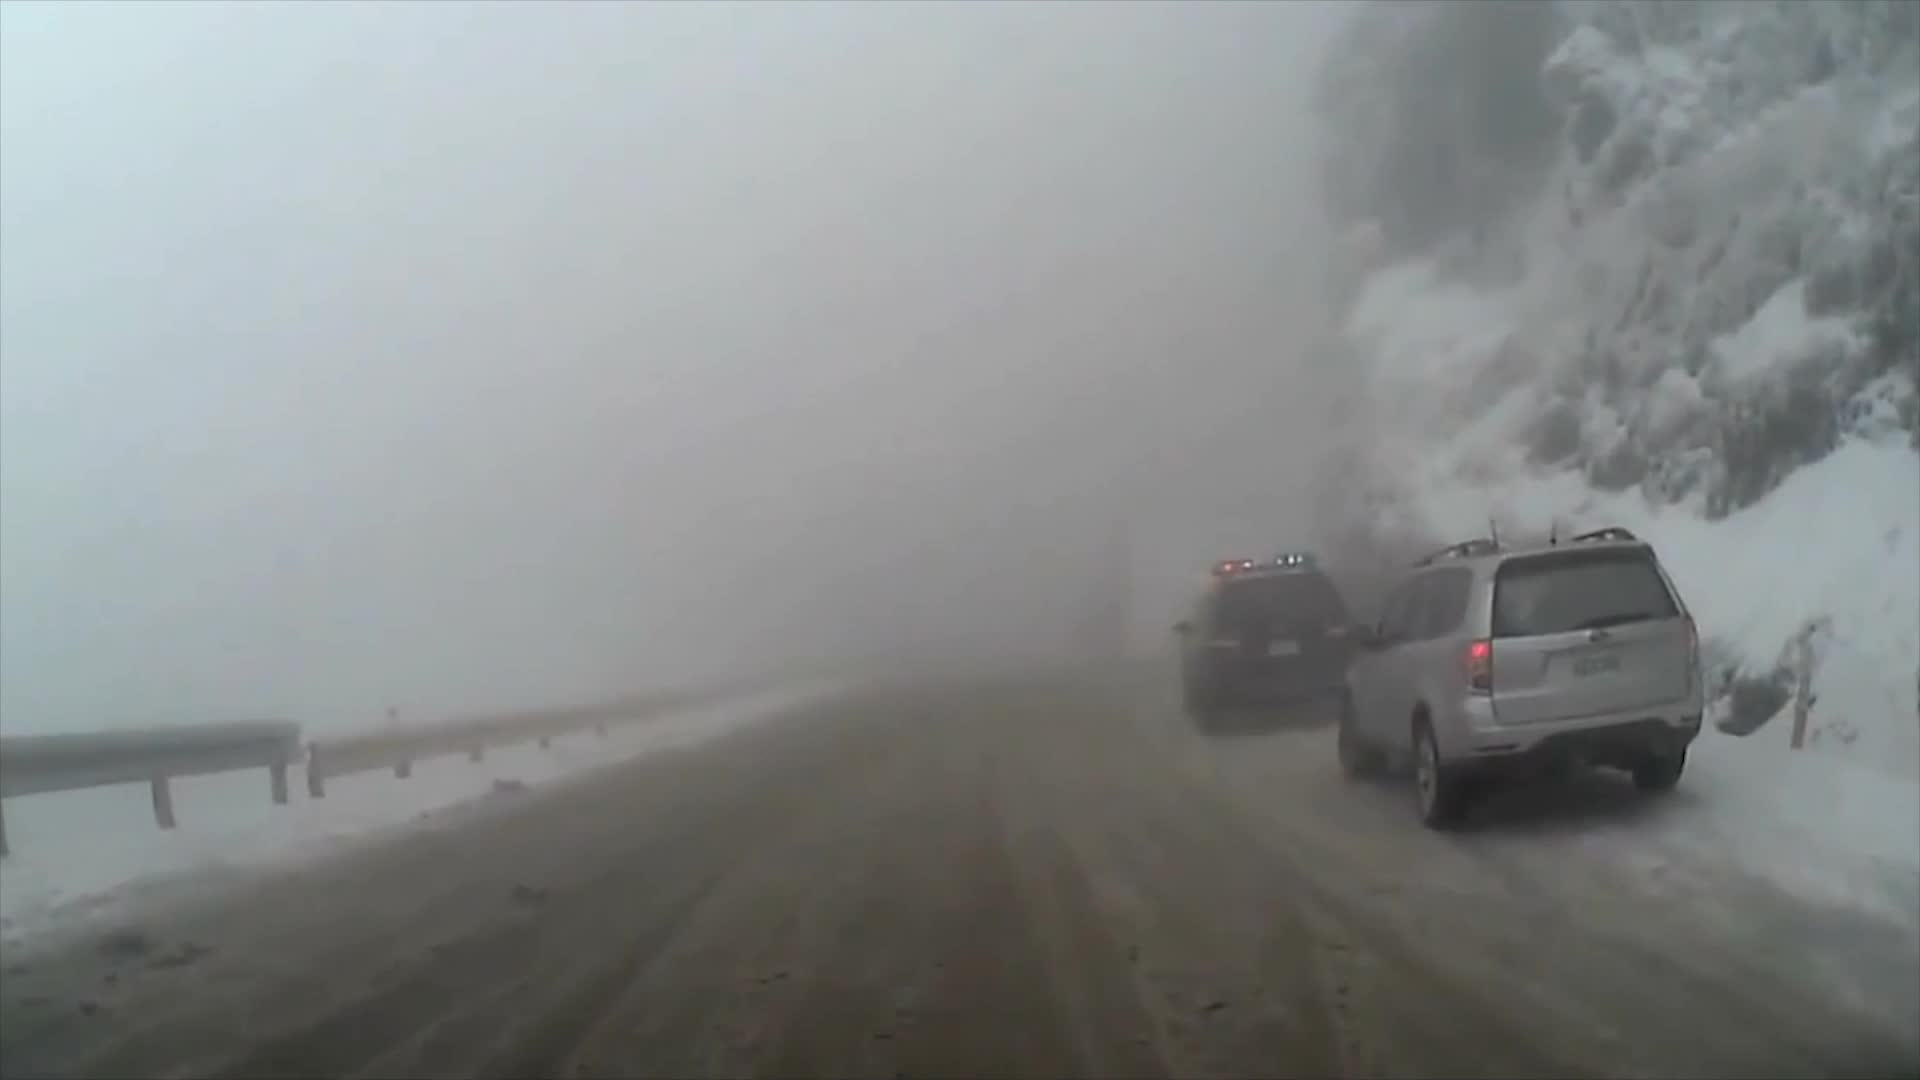vehicle: (1332, 527, 1705, 833), (1172, 545, 1362, 732)
